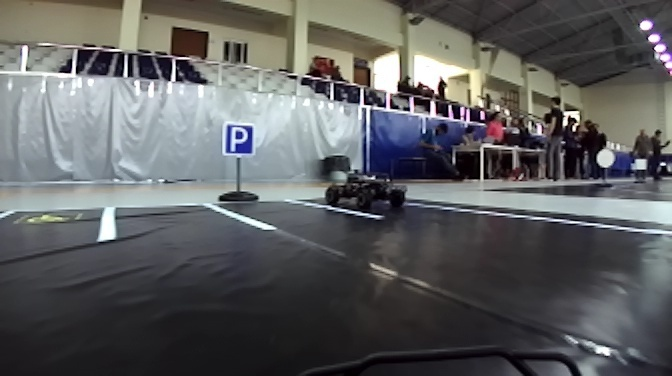park: (222, 121, 258, 160)
